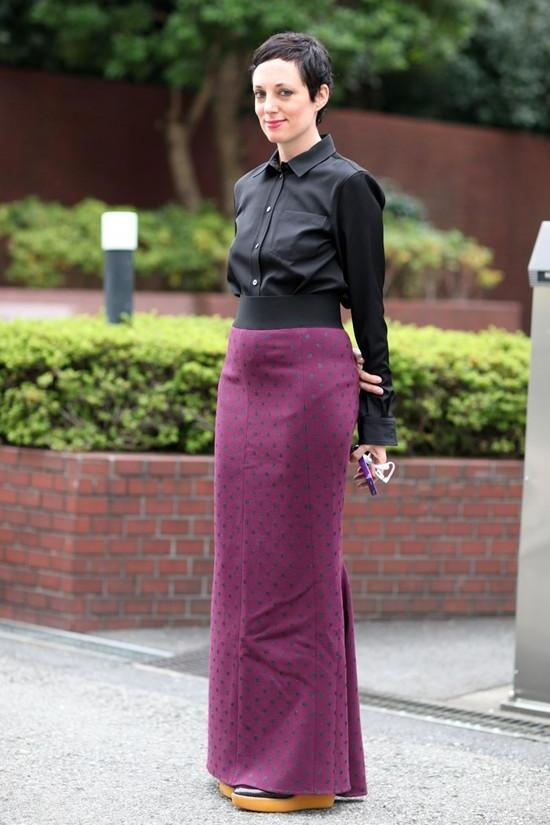shirt: (229, 134, 397, 446)
skirt: (204, 325, 370, 800)
